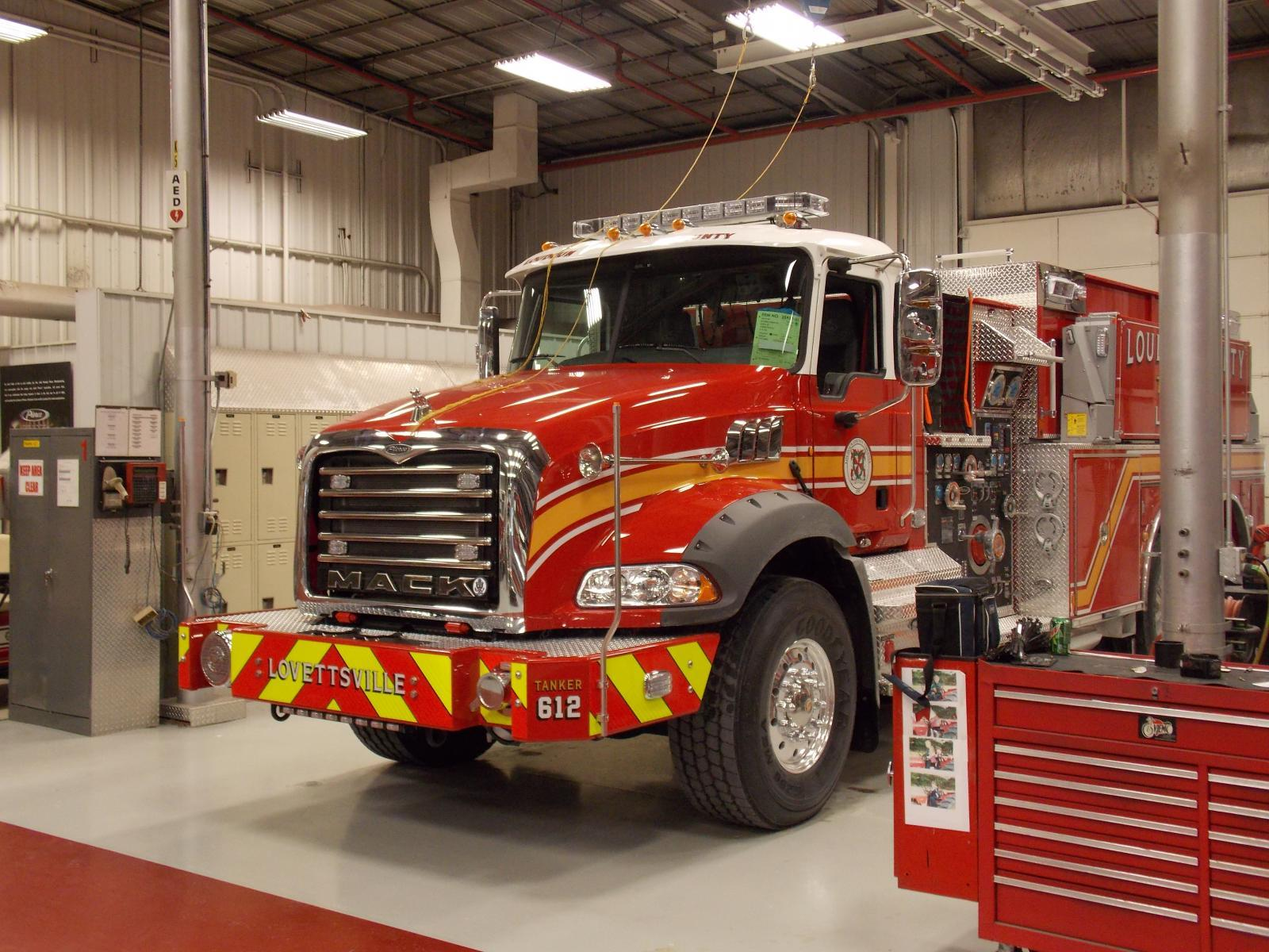Fire-engine: (179, 189, 965, 831)
